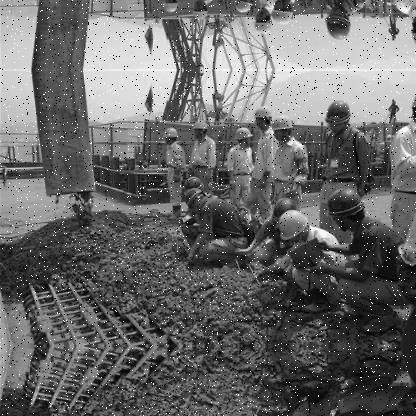Helmet: (324, 183, 372, 232), (272, 210, 316, 248), (318, 6, 359, 46), (322, 96, 355, 134), (266, 116, 301, 145), (178, 186, 212, 214), (247, 107, 277, 136), (249, 5, 276, 37), (266, 195, 296, 222), (270, 0, 298, 28), (230, 126, 258, 150), (189, 0, 214, 24), (178, 173, 209, 192), (159, 124, 181, 148), (230, 0, 255, 18), (158, 0, 182, 18), (191, 120, 210, 139)
